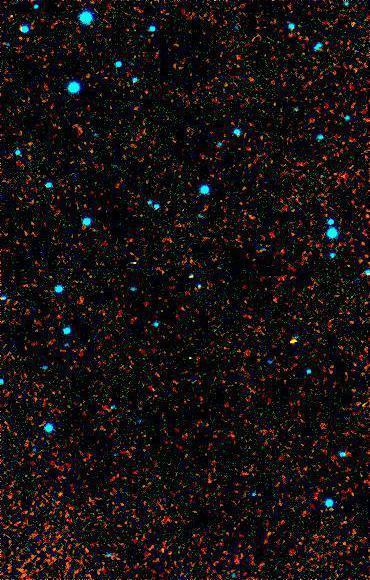star: (279, 325, 309, 355)
